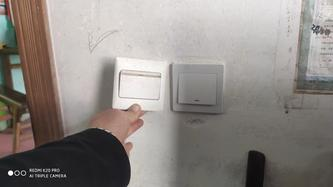switch: (175, 67, 224, 107), (117, 67, 163, 103)
